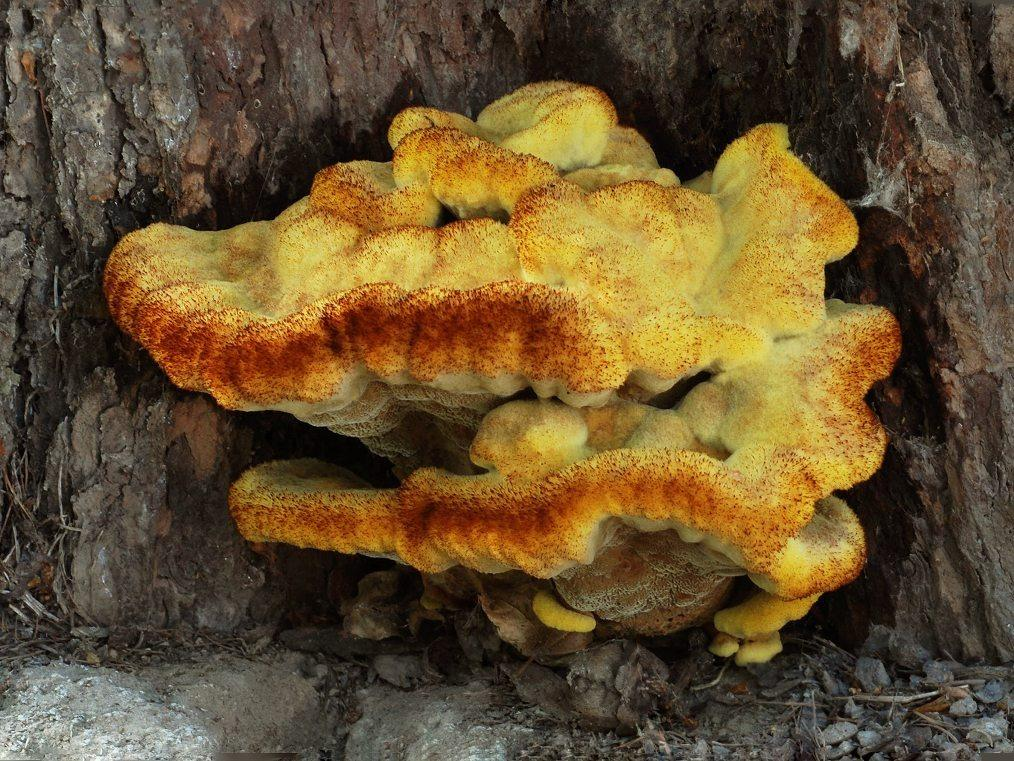Sulphur-yellow tinder fungus: (105, 82, 898, 661)
